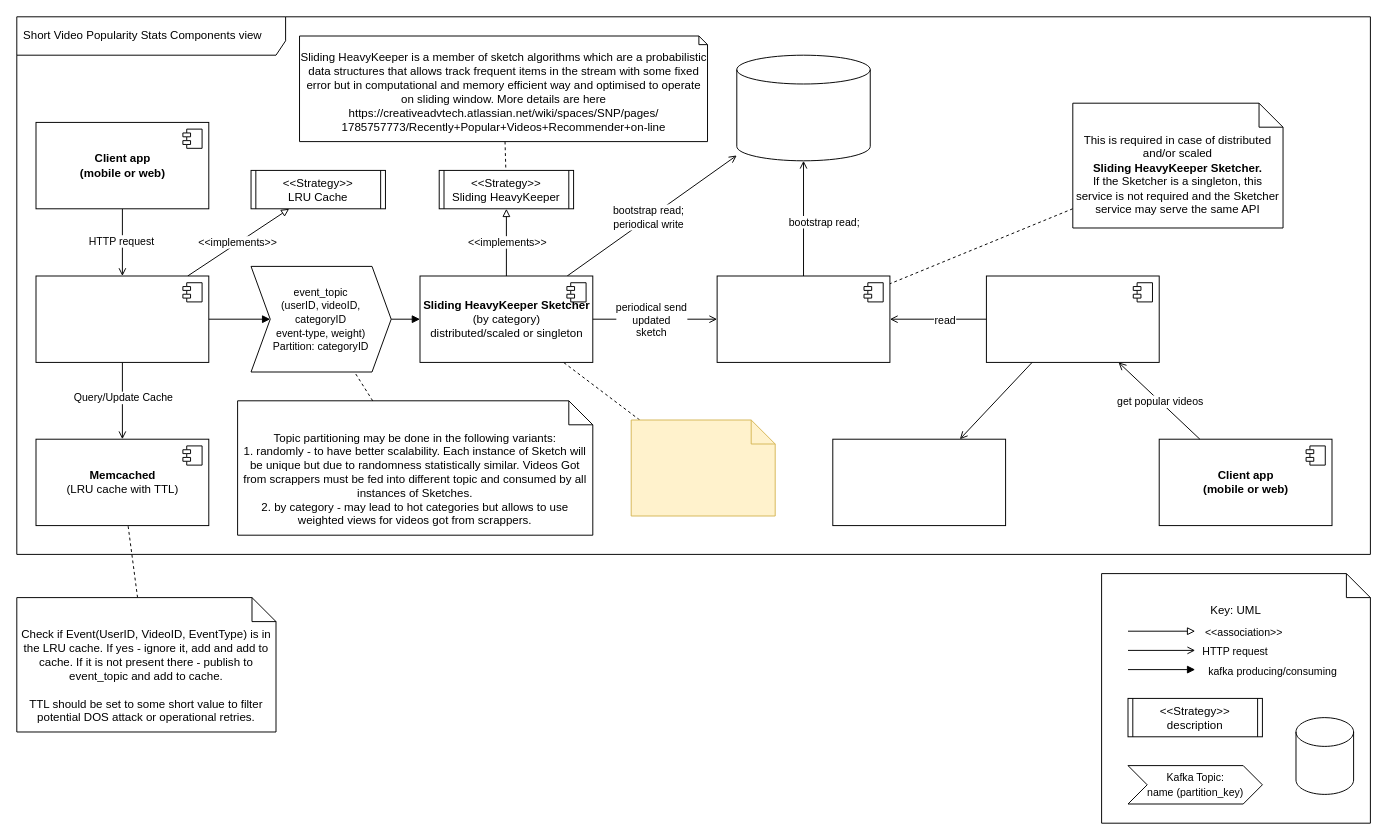
Some shapes in this 1387 by 840 pixel diagram are drawn without their labels. Here are the shapes that lost their labels. From the top down, the centre of each, then its label:
At (x=803, y=107): "S3 Sketch Storage".
At (x=122, y=318): "API Controller (Gateway) (payload validation)".
At (x=803, y=318): "Sliding HeavyKeeper Sketch Server (by category)".
At (x=1072, y=318): "Popular Videos Service (performs categories mixing)".
At (x=702, y=467): "Need to run some load tests to identify if a singleton would be sufficient".
At (x=919, y=482): "Cache".
At (x=1324, y=755): "Cassandra Table".
